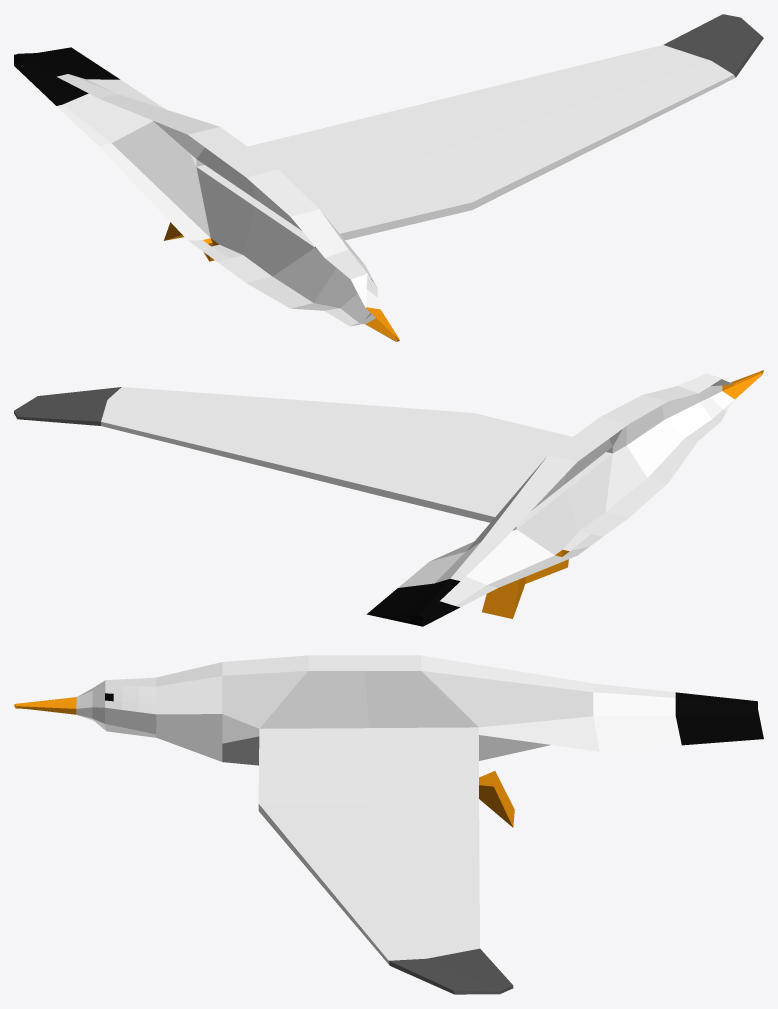
Rendered from seagull-low-poly.glb.
3 renders of one model, top to bottom at view 1: azimuth 30°, elevation 25°; view 2: azimuth 150°, elevation 25°; view 3: azimuth 270°, elevation 25°, orthographic. The views are drawn at different scales.
Visible parts, largest first — view 1: Cube; view 2: Cube; view 3: Cube.
Part boxes in pixels (x1,y1,x2,y2): Cube: (14,14,763,341); Cube: (14,370,763,626); Cube: (14,655,763,994).
Size of the model in its own units: 0.8197 by 0.1965 by 0.9259.
1 material, 1 textured.
